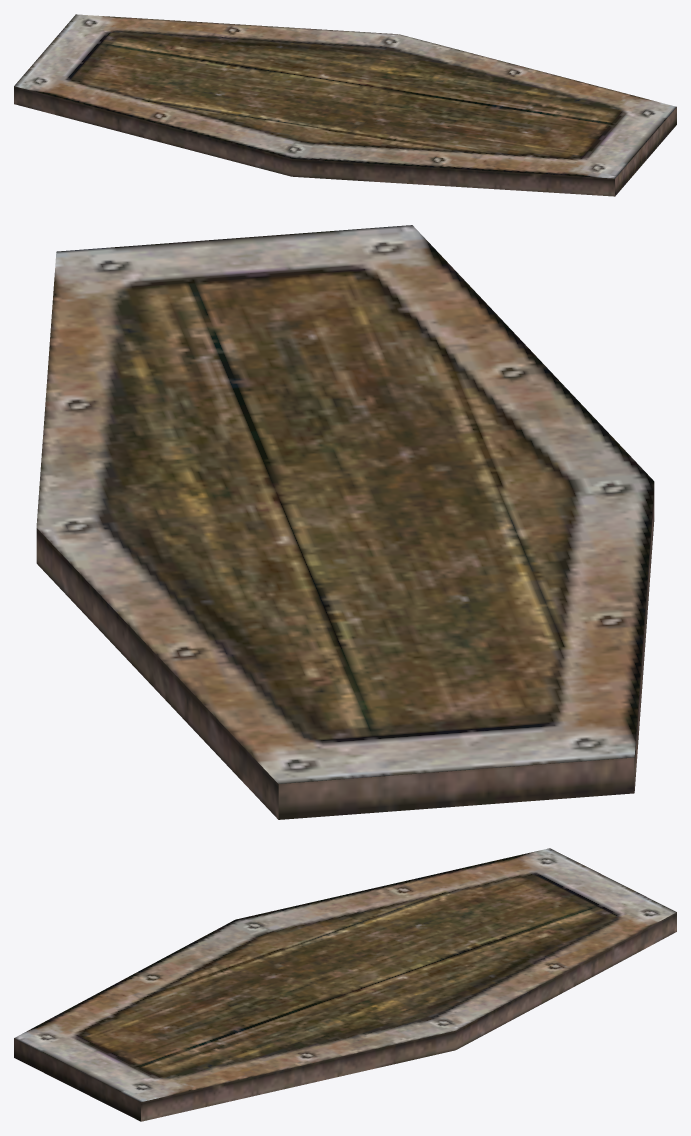
3 renders of one model, top to bottom at view 1: azimuth 30°, elevation 25°; view 2: azimuth 150°, elevation 25°; view 3: azimuth 270°, elevation 25°, orthographic. The views are drawn at different scales.
Visible parts, largest first — view 1: ms1; view 2: ms1; view 3: ms1.
Part boxes in pixels (<box>): ms1: <box>14,14,676,196</box>; ms1: <box>36,225,654,819</box>; ms1: <box>14,848,676,1121</box>.
Bounding box in the file's own units: 0.8549 × 0.0308 × 0.9428.
Materials: 1 (1 with a texture image).
